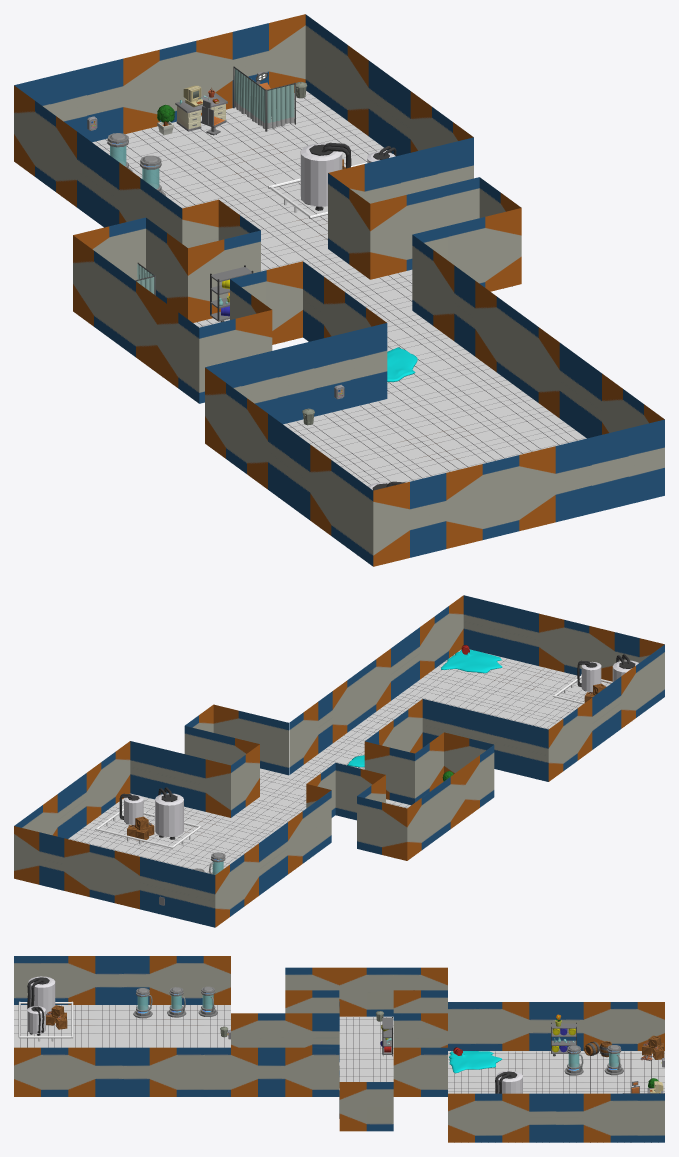
File: Laboratorio.fbx_Laboratorio.fbx
3 views of the same model, one above another, from view 1: azimuth 30°, elevation 25°; view 2: azimuth 150°, elevation 25°; view 3: azimuth 270°, elevation 25° (orthographic). The views are drawn at different scales.
Visible parts, largest first — view 1: PisoLab, Paredes.006, Paredes.003, Paredes.008, Paredes.009, Paredes.001, Paredes.010, Paredes.004, Paredes.002, Paredes.013, Paredes.011, Paredes.005 (+8 smaller); view 2: PisoLab, Paredes.003, Paredes.008, Paredes.006, Paredes.001, Paredes.009, Paredes.010, Paredes.004, Paredes.002, Paredes.013, Paredes.005, Paredes.014 (+6 smaller); view 3: PisoLab, Paredes.008, Paredes.002, Paredes.004, Paredes.010, Paredes.013, Paredes.005, Paredes.011, Paredes.001, Paredes.007, Paredes.009, Tanques.001 (+13 smaller).
Boxes of the visible parts, left/top/right/bottom form: PisoLab: left=45, top=91, right=586, bottom=497; Paredes.006: left=373, top=419, right=664, bottom=566; Paredes.003: left=14, top=14, right=305, bottom=142; Paredes.008: left=412, top=235, right=664, bottom=438; Paredes.009: left=199, top=292, right=387, bottom=424; Paredes.001: left=328, top=137, right=479, bottom=279; Paredes.010: left=205, top=367, right=373, bottom=566; Paredes.004: left=14, top=85, right=182, bottom=243; Paredes.002: left=305, top=14, right=473, bottom=156; Paredes.013: left=73, top=235, right=199, bottom=403; Paredes.011: left=146, top=199, right=260, bottom=322; Paredes.005: left=230, top=261, right=344, bottom=344; PisoLab: left=26, top=649, right=610, bottom=917; Paredes.003: left=14, top=826, right=215, bottom=927; Paredes.008: left=289, top=595, right=463, bottom=774; Paredes.006: left=463, top=595, right=664, bottom=683; Paredes.001: left=130, top=726, right=259, bottom=817; Paredes.009: left=393, top=699, right=548, bottom=781; Paredes.010: left=548, top=644, right=664, bottom=781; Paredes.004: left=215, top=790, right=331, bottom=927; Paredes.002: left=14, top=741, right=130, bottom=838; Paredes.013: left=407, top=745, right=494, bottom=860; Paredes.005: left=364, top=720, right=443, bottom=805; Paredes.014: left=213, top=704, right=288, bottom=775; PisoLab: left=14, top=1005, right=664, bottom=1142; Paredes.008: left=14, top=1047, right=339, bottom=1096; Paredes.002: left=448, top=1093, right=664, bottom=1142; Paredes.004: left=448, top=1002, right=664, bottom=1050; Paredes.010: left=14, top=956, right=230, bottom=1004; Paredes.013: left=285, top=967, right=447, bottom=1016; Paredes.005: left=285, top=990, right=339, bottom=1061; Paredes.011: left=393, top=990, right=447, bottom=1047; Paredes.001: left=393, top=1047, right=447, bottom=1096; Paredes.007: left=339, top=1082, right=393, bottom=1131; Paredes.009: left=231, top=1013, right=285, bottom=1047; Tanques.001: left=27, top=976, right=55, bottom=1035.
Size of the model in its own units: 2400 by 401 by 4802.
